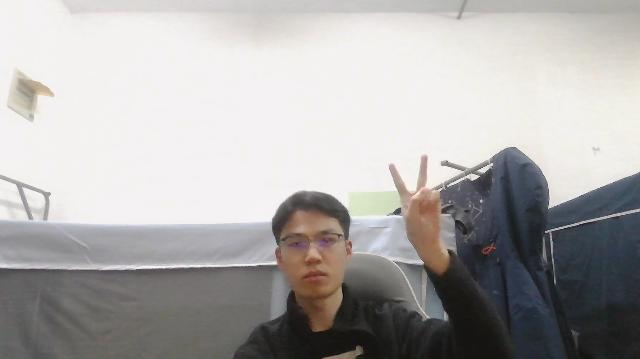two: (385, 154, 443, 245)
